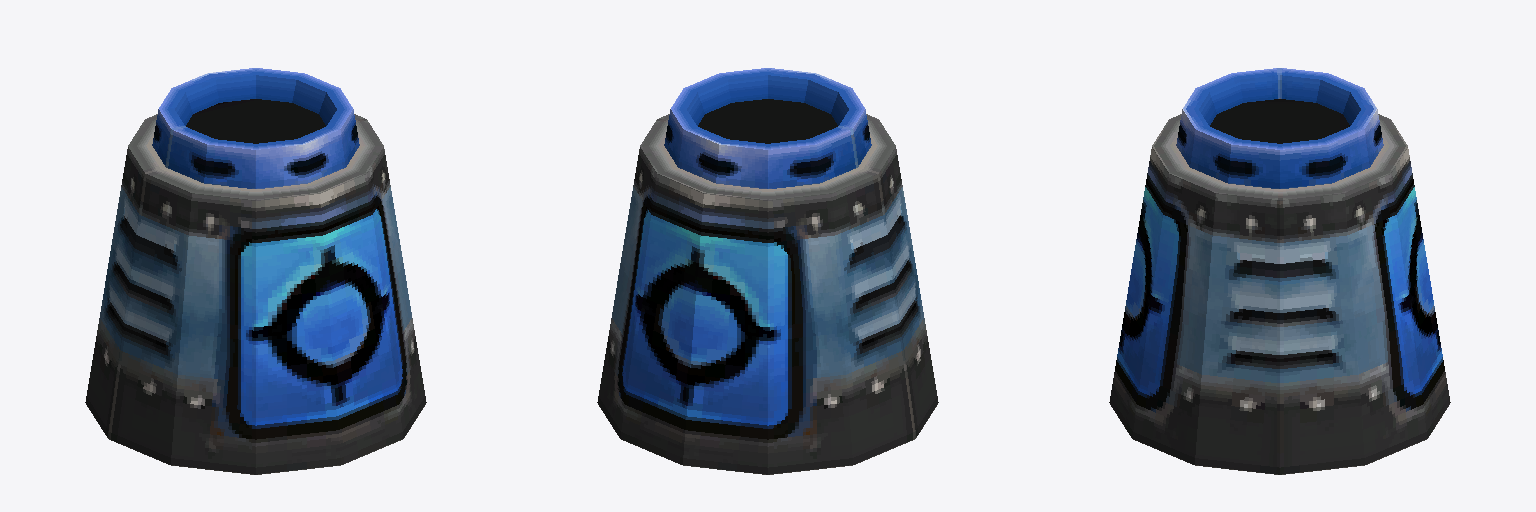
The picture shows the model from 3 angles: view 1: azimuth 30°, elevation 25°; view 2: azimuth 150°, elevation 25°; view 3: azimuth 270°, elevation 25°; orthographic projection.
Parts seen in each view (by area): view 1: Object01; view 2: Object01; view 3: Object01.
Part boxes in pixels (x1,y1,x2,y2): Object01: (85,68,426,474); Object01: (597,68,938,474); Object01: (1109,68,1450,474).
Size of the model in its own units: 25.24 by 24 by 25.24.
1 materials, 1 textured.